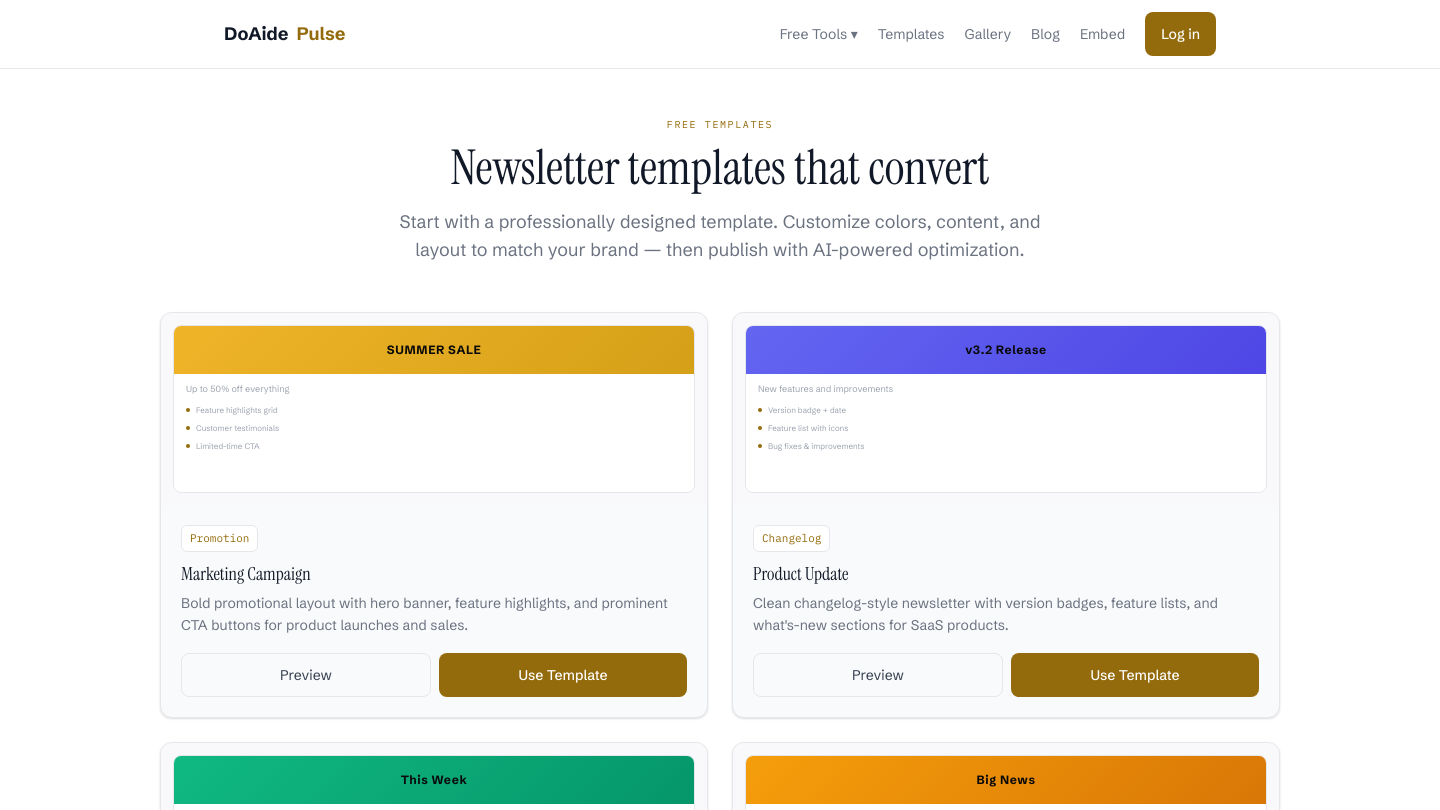
Scenario: TemplatesGallery › expands and collapses a template preview
Click the button "Preview" below "Marketing Campaign": (306, 675) left=181, top=653, right=431, bottom=697
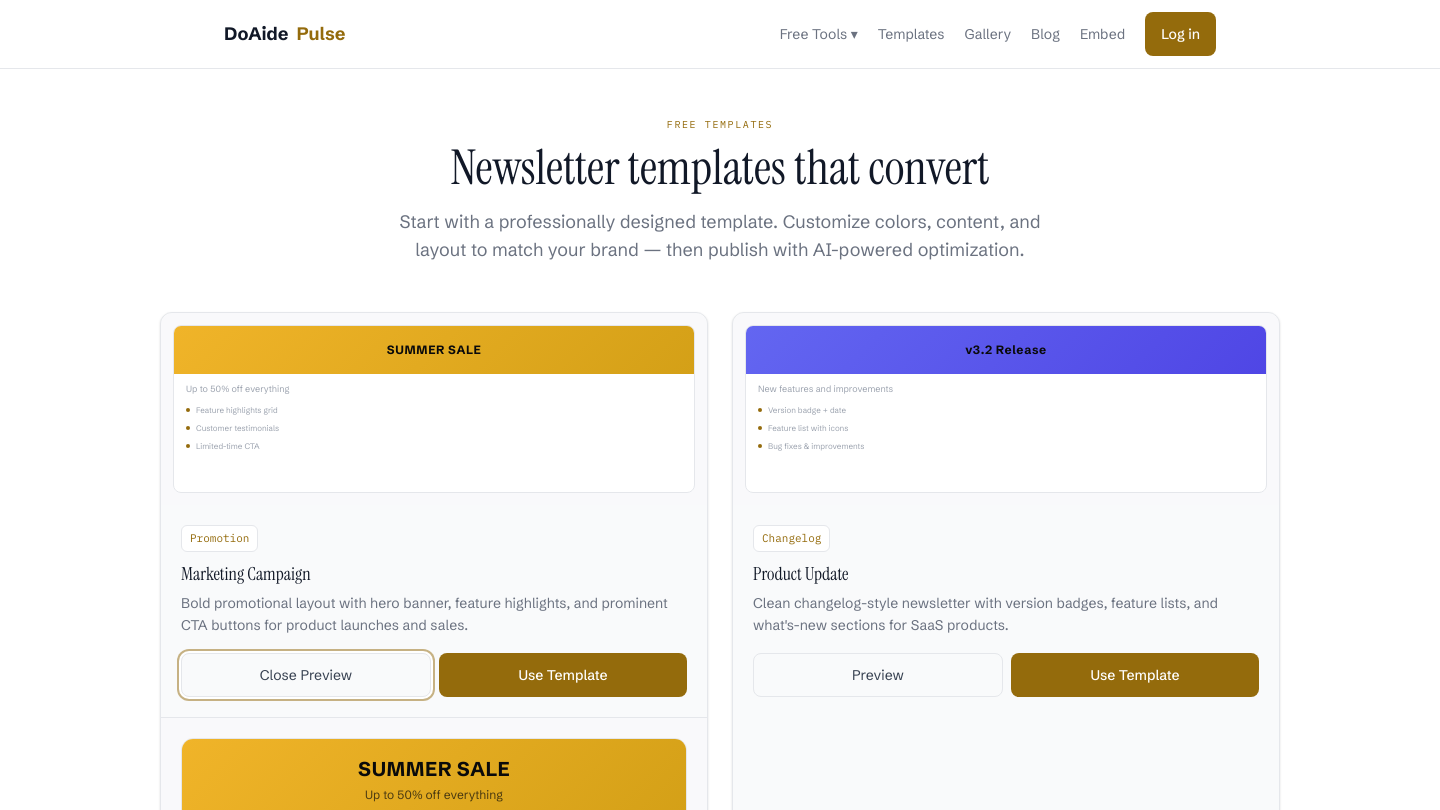
Check: the button "Close Preview" is shown
Click the button "Close Preview": (306, 675) left=181, top=653, right=431, bottom=697
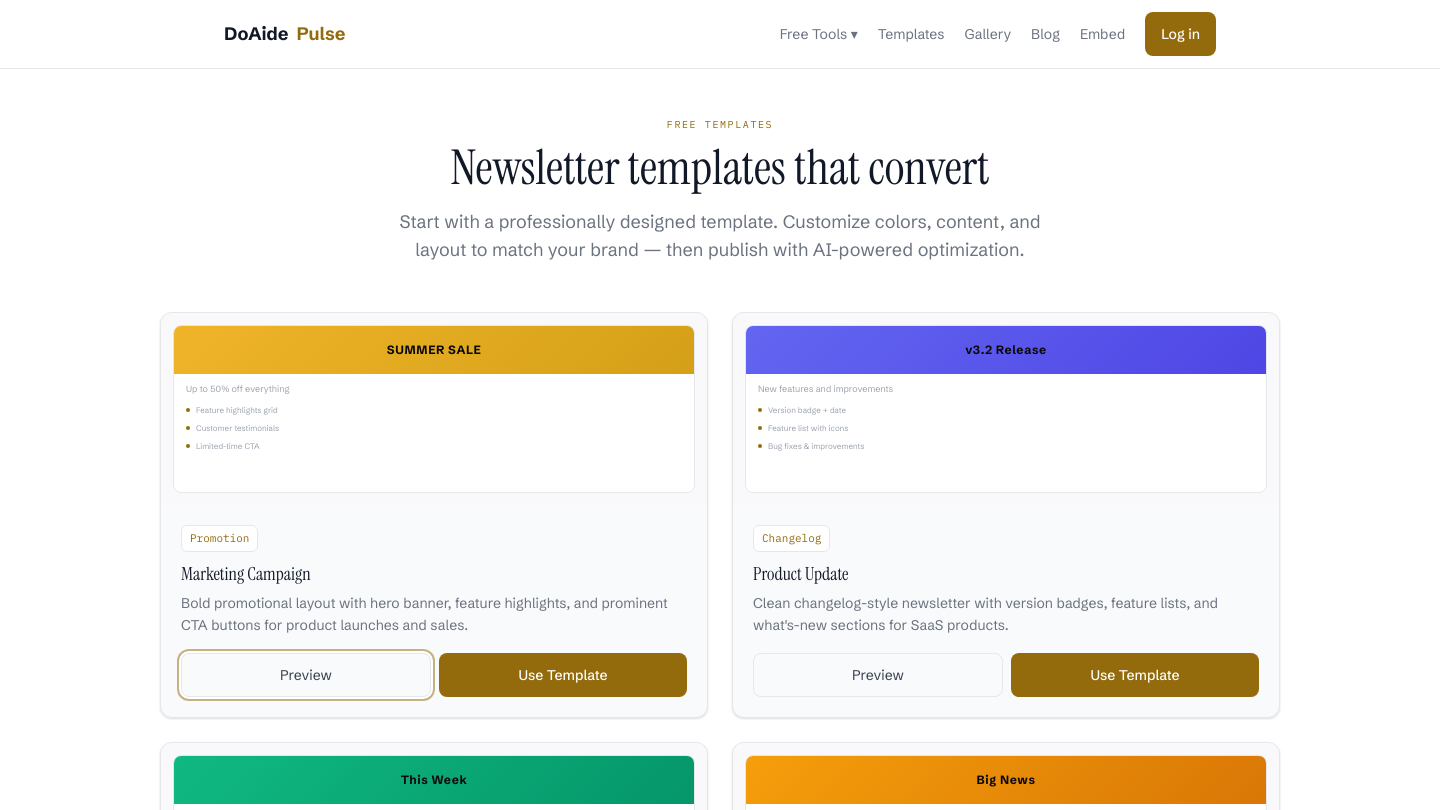
Check: the button "Close Preview" is gone
